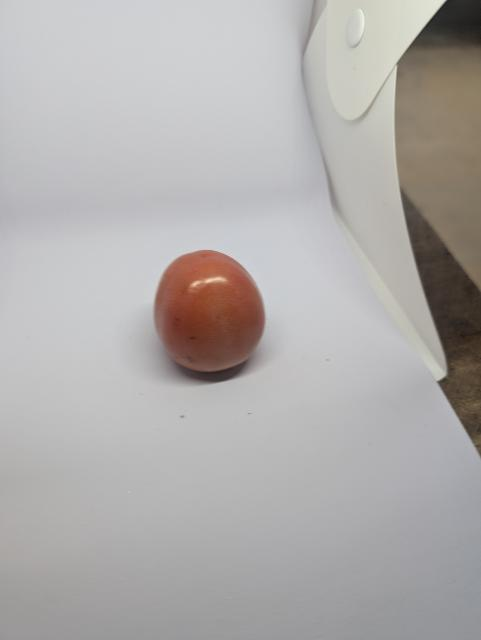red: (123, 235, 281, 379)
